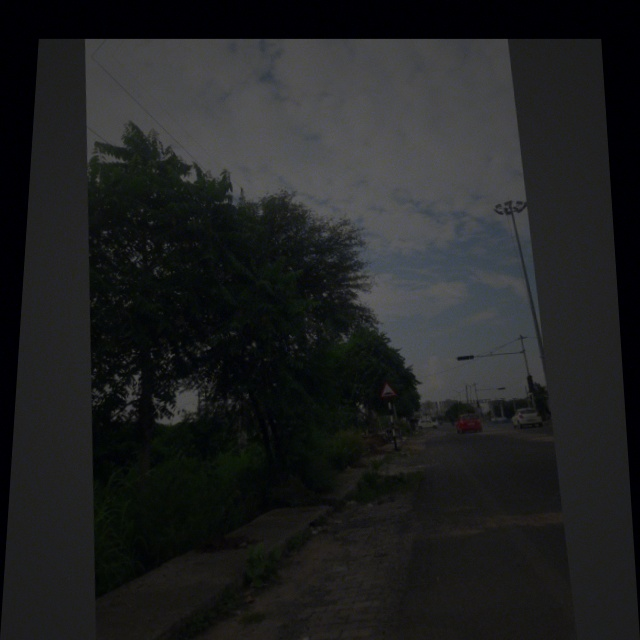Hump_or_Rough_Road: (373, 372, 399, 403)
